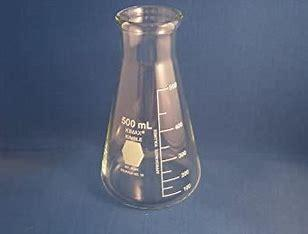Titrarion: (95, 11, 205, 206)
